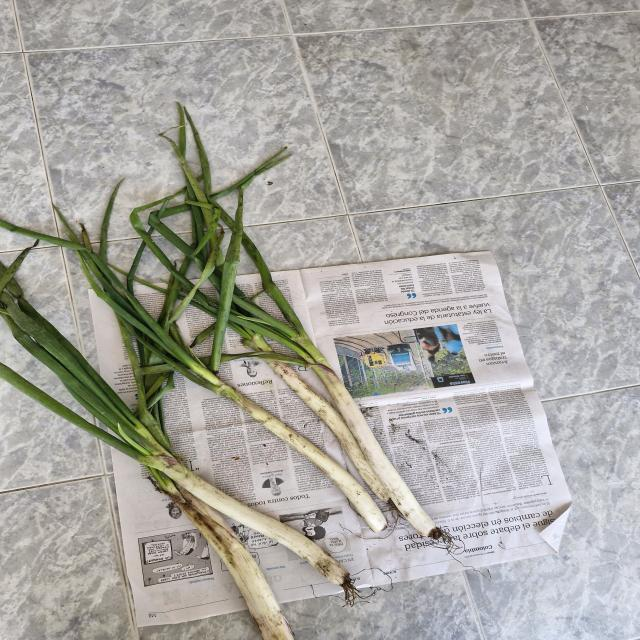green_onion: (0, 278, 299, 636), (236, 272, 450, 536)
